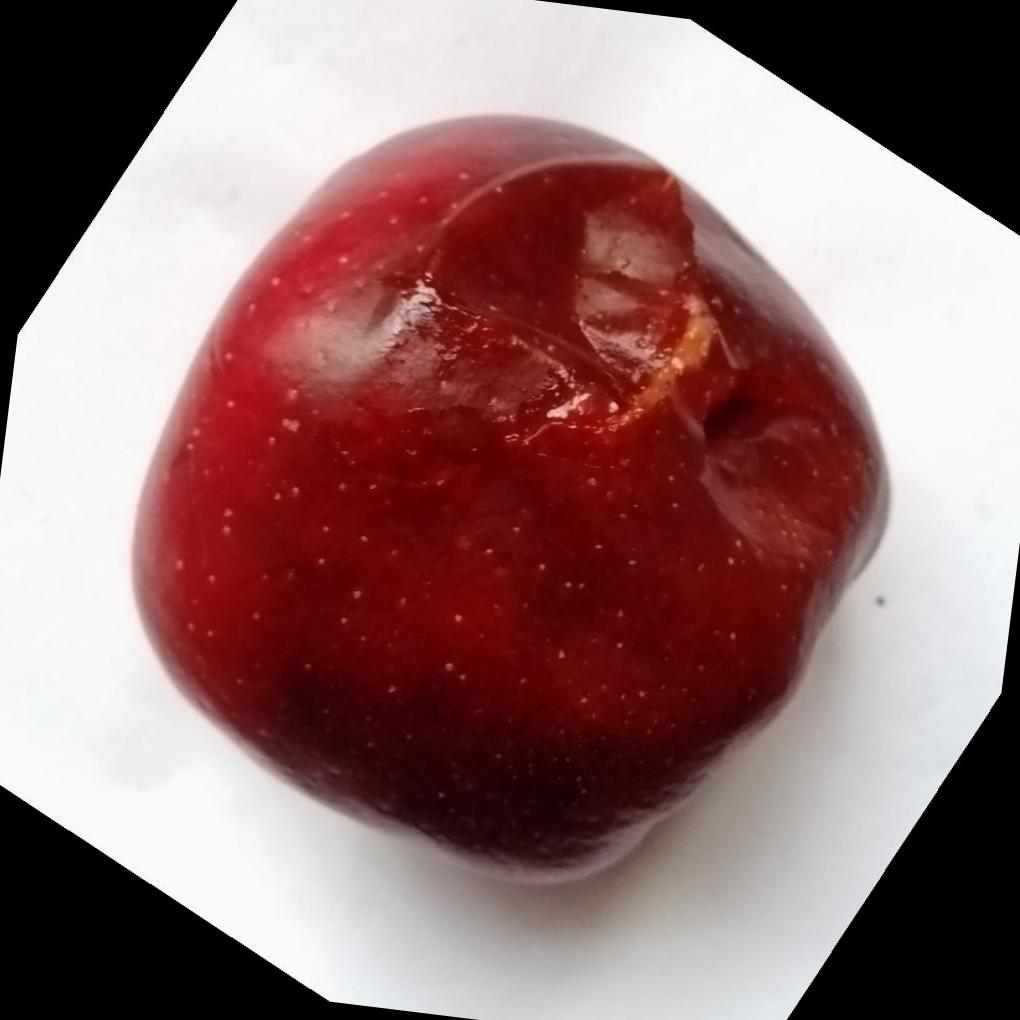FreshOrange: (132, 113, 894, 889)
